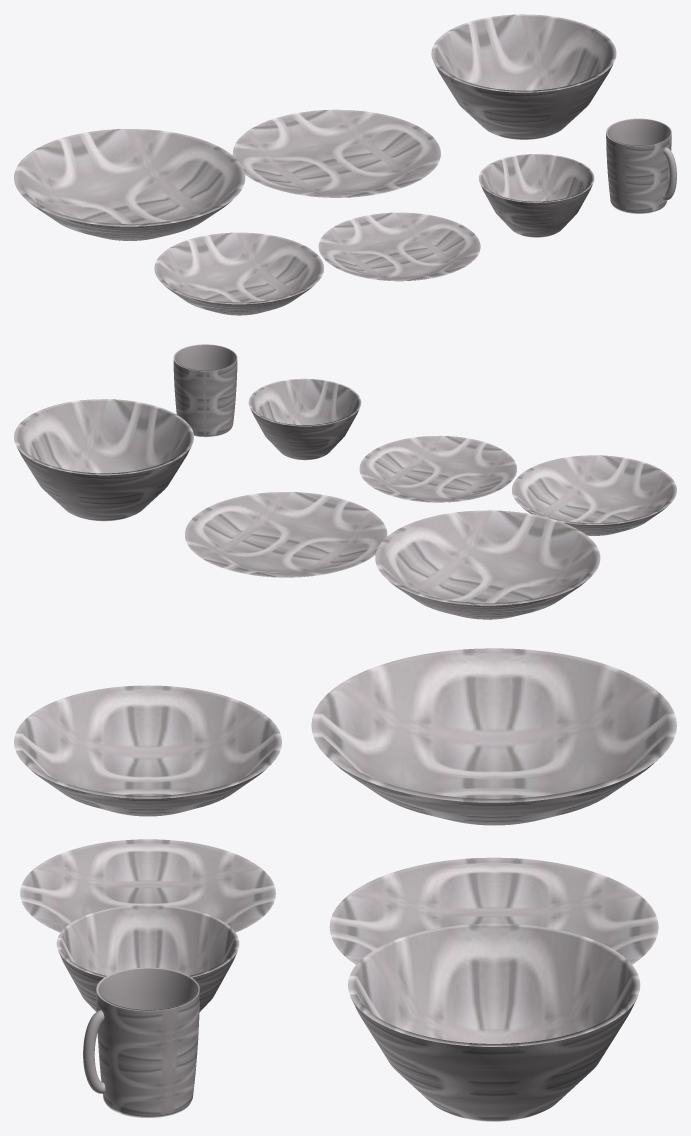
The model's file is COL-04.glb.
The picture shows the model from 3 angles, top to bottom: view 1: azimuth 30°, elevation 25°; view 2: azimuth 150°, elevation 25°; view 3: azimuth 270°, elevation 25°; orthographic projection. The views are drawn at different scales.
Bounding box in the file's own units: 0.86 × 0.1 × 0.544.
15 materials, 13 textured.
